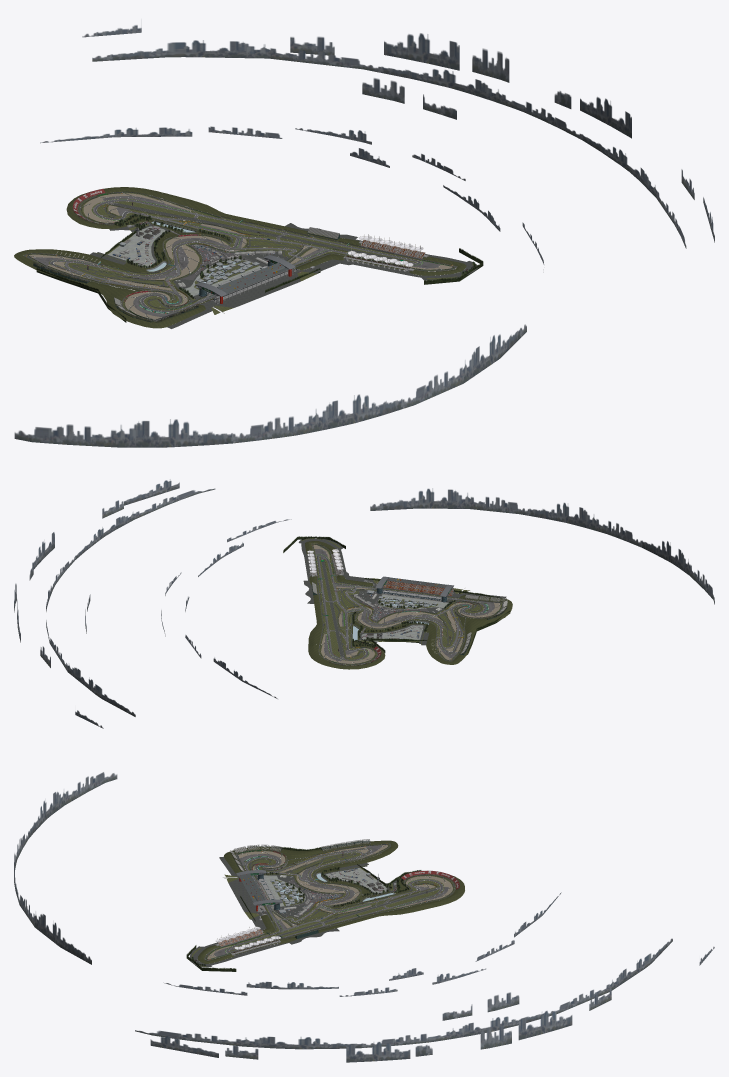
The model's file is SUP_shanghai_international_circuit_2018_layout.glb.
3 renders of one model, top to bottom at view 1: azimuth 30°, elevation 25°; view 2: azimuth 150°, elevation 25°; view 3: azimuth 270°, elevation 25°, orthographic. The views are drawn at different scales.
Visible parts, largest first — view 1: SUP_shanghai_international_circuit_2018_layout; view 2: SUP_shanghai_international_circuit_2018_layout; view 3: SUP_shanghai_international_circuit_2018_layout.
Part boxes in pixels (bbox=[...]): SUP_shanghai_international_circuit_2018_layout: bbox=[14, 25, 714, 447]; SUP_shanghai_international_circuit_2018_layout: bbox=[14, 479, 714, 728]; SUP_shanghai_international_circuit_2018_layout: bbox=[14, 772, 714, 1062].
Bounding box in the file's own units: 3387 × 211 × 3508.
99 materials, 98 textured.
